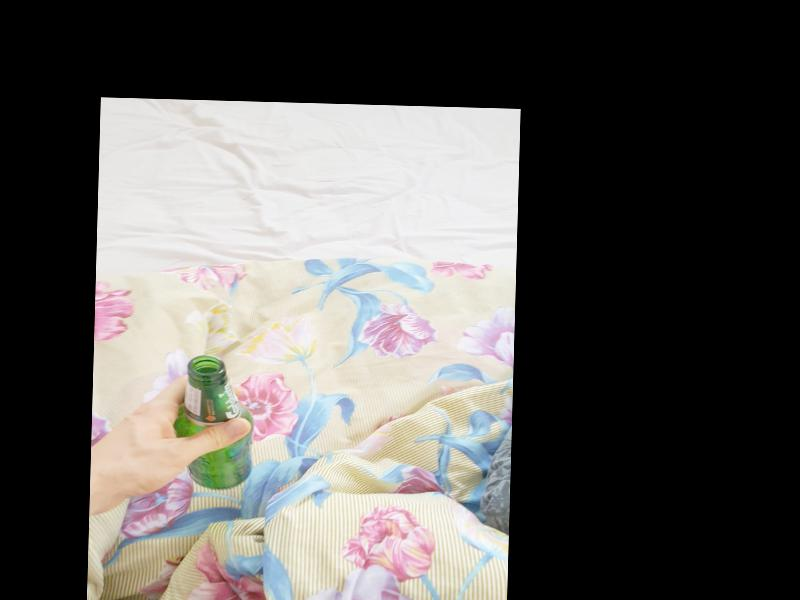Beer: (171, 356, 253, 490)
